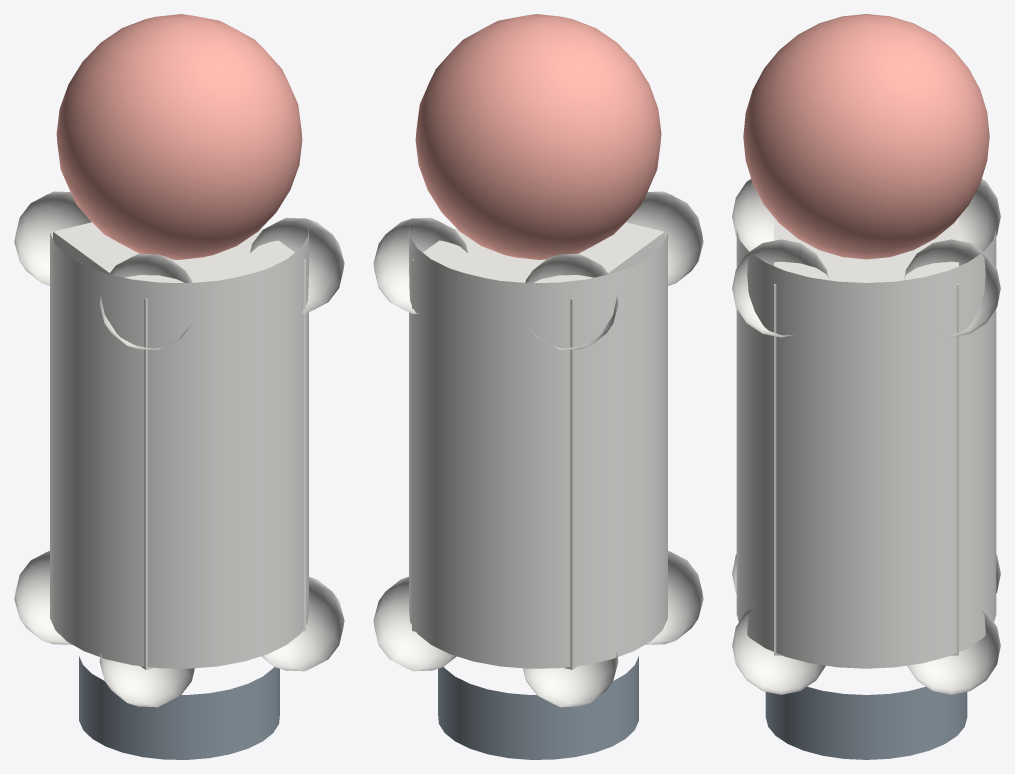
Rendered from rocket.glb.
3 views of the same model, side by side, from view 1: azimuth 30°, elevation 25°; view 2: azimuth 150°, elevation 25°; view 3: azimuth 270°, elevation 25° (orthographic).
Parts seen in each view (by area): view 1: rocket; view 2: rocket; view 3: rocket.
Part boxes in pixels (<box>): rocket: <box>14,14,344,759</box>; rocket: <box>373,14,703,759</box>; rocket: <box>732,14,1000,759</box>.
Size of the model in its own units: 1.2 by 3.41 by 1.2.
